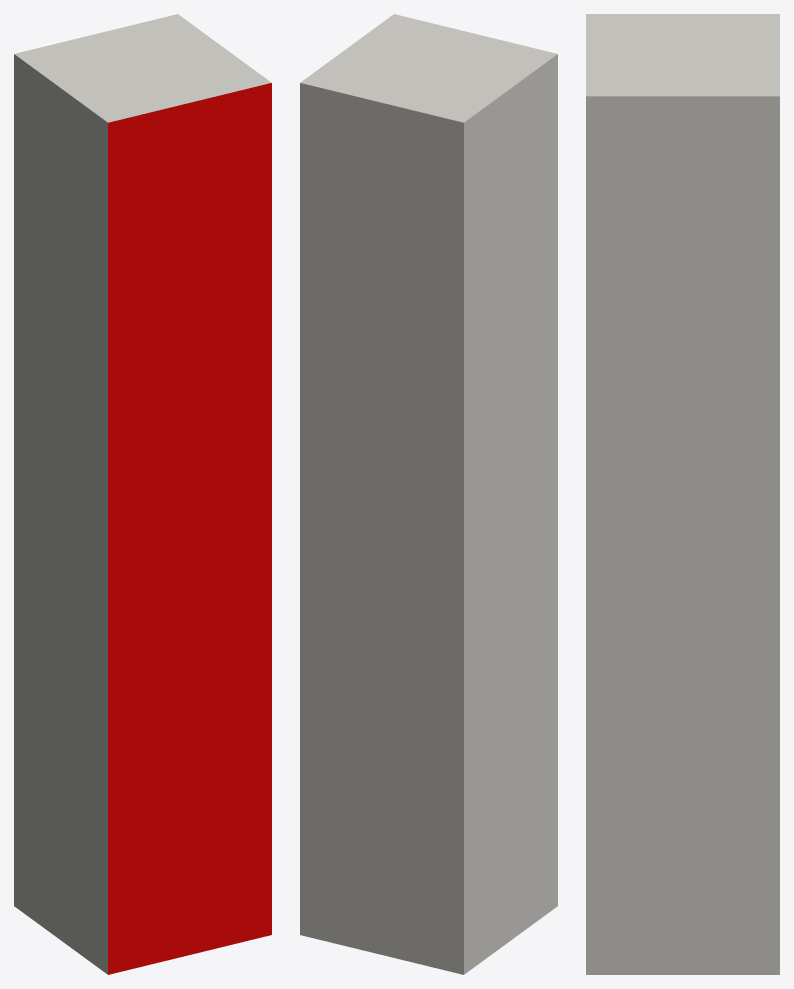
The model's file is Wall3.fbx.
3 views of the same model, side by side, from view 1: azimuth 30°, elevation 25°; view 2: azimuth 150°, elevation 25°; view 3: azimuth 270°, elevation 25° (orthographic). The views are drawn at different scales.
Visible parts, largest first — view 1: Wall3; view 2: Wall3; view 3: Wall3.
Boxes of the visible parts, box(x1,y1,x2,y2) form: Wall3: box(14, 14, 271, 974); Wall3: box(300, 14, 557, 974); Wall3: box(586, 14, 779, 974).
Bounding box in the file's own units: 101 × 500 × 100.
